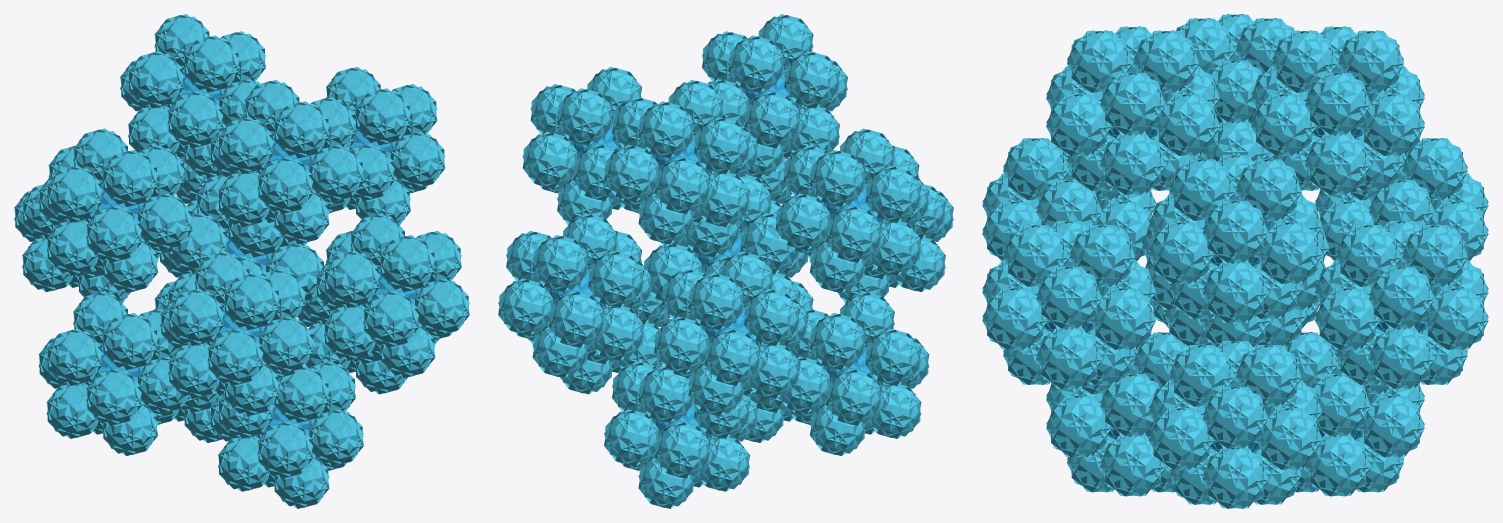
Rendered from fractalrhombicosahedron2.glb.
3 views of the same model, side by side, from view 1: azimuth 30°, elevation 25°; view 2: azimuth 150°, elevation 25°; view 3: azimuth 270°, elevation 25° (orthographic). The views are drawn at different scales.
Bounding box in the file's own units: 10.21 × 10.21 × 10.21.
